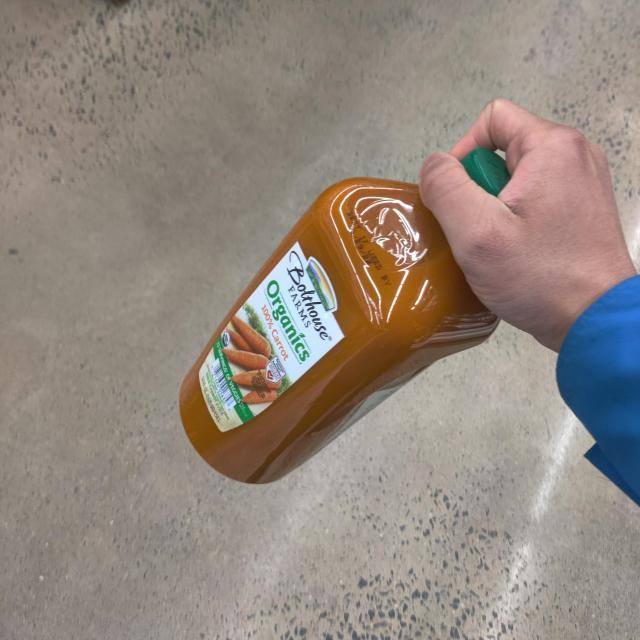Juice: (148, 128, 534, 504)
